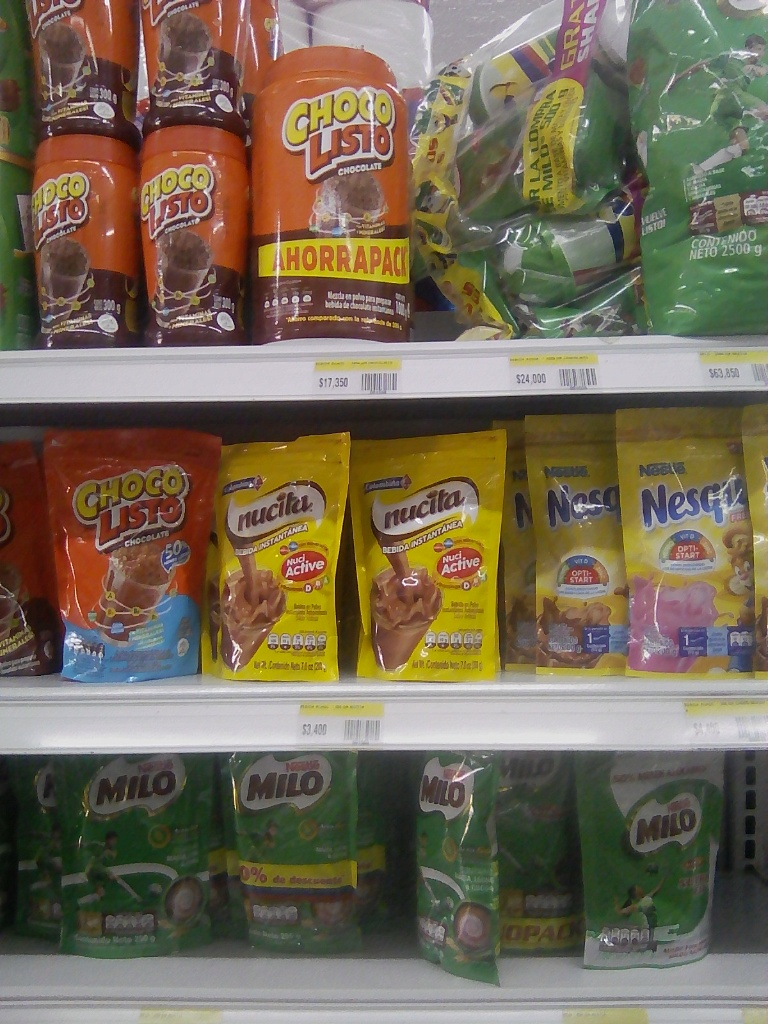COL0170103TRR00100: (249, 46, 419, 350)
COL0170103TRR30000: (26, 129, 137, 349)
COL0170104DYP20000: (45, 431, 213, 679)
COL0170203DYP25000: (61, 757, 219, 964)
COL0170203DYP50000: (427, 85, 621, 214)
COL0170205DYP50000: (572, 745, 734, 978)
COL0170303DYP20000: (512, 409, 633, 678)
COL0170305DYP20000: (622, 411, 758, 677)
